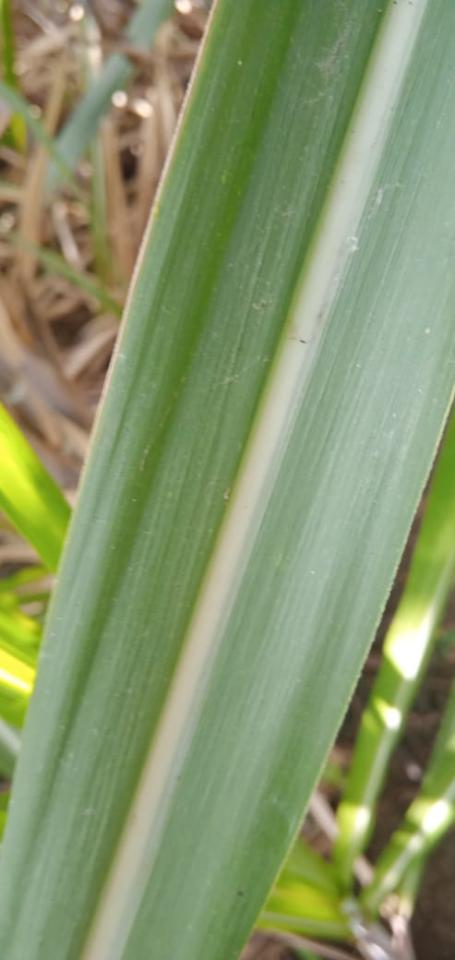Healthy: (2, 1, 454, 959)
